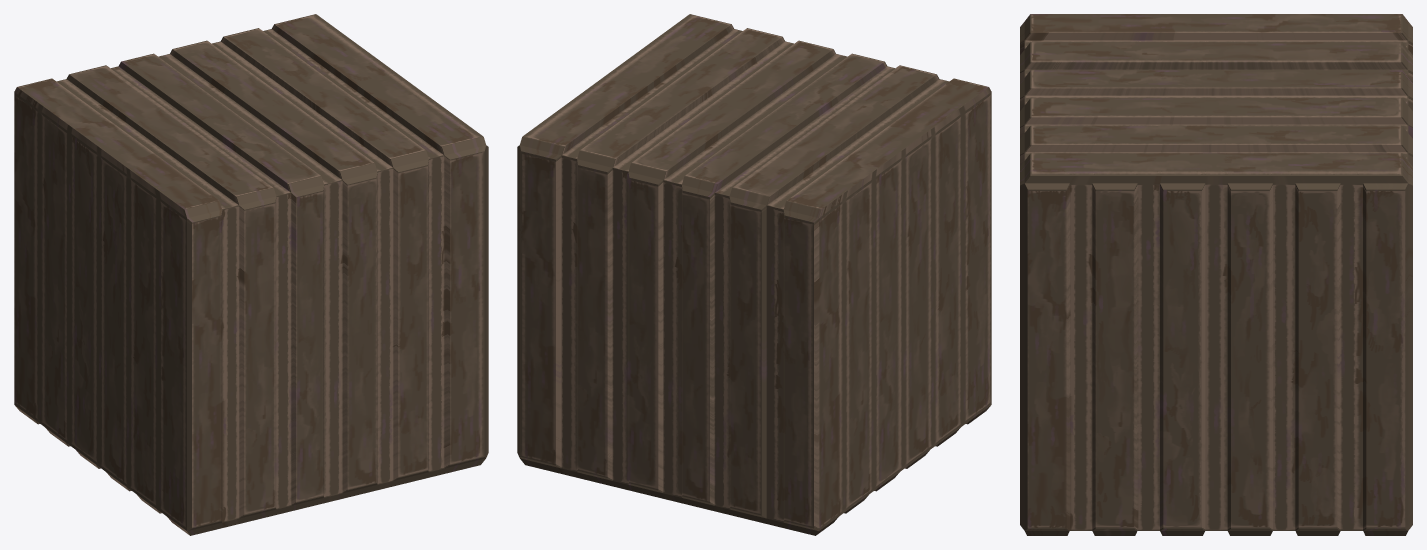
File: crateTest 1.fbx
The picture shows the model from 3 angles, left to right: view 1: azimuth 30°, elevation 25°; view 2: azimuth 150°, elevation 25°; view 3: azimuth 270°, elevation 25°; orthographic projection. The views are drawn at different scales.
Parts seen in each view (by area): view 1: SM_CrateTest; view 2: SM_CrateTest; view 3: SM_CrateTest.
Part boxes in pixels (left/top/right/bottom): SM_CrateTest: left=14, top=14, right=488, bottom=535; SM_CrateTest: left=517, top=14, right=991, bottom=535; SM_CrateTest: left=1020, top=14, right=1412, bottom=535.
Size of the model in its own units: 203 by 208 by 205.
